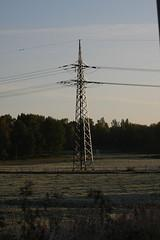power_tower: (55, 35, 101, 174)
